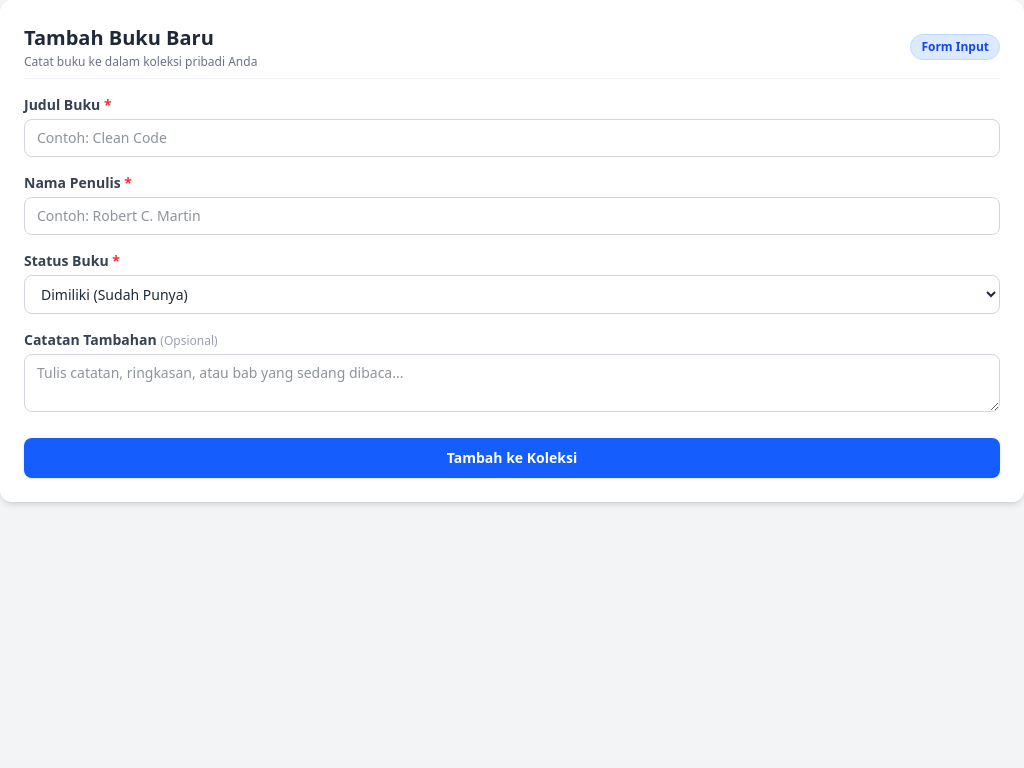
it: Unit Tests: Aplikasi Manajemen Buku Pribadi › 1. Menampilkan pesan error validasi ketika form disubmit dalam keadaan kosong
Click the button "Tambah ke Koleksi" at (512, 458), box [24,438,1000,478]
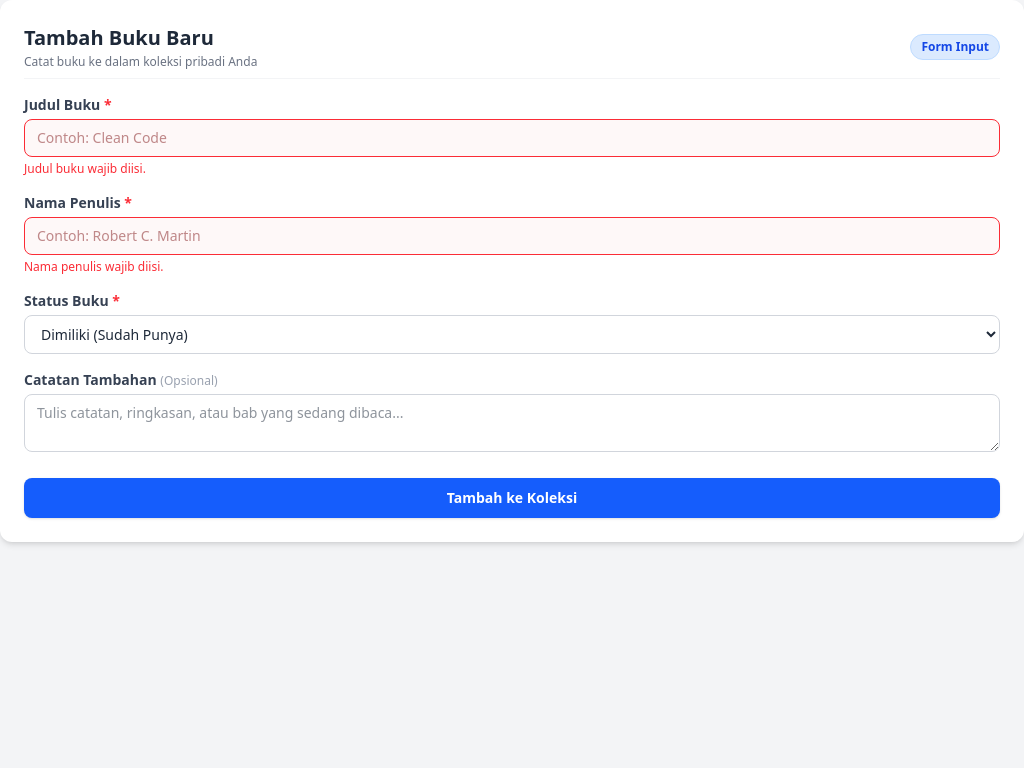
Now the text "Judul buku wajib diisi." is shown, box [24,160,146,177]
Now the text "Nama penulis wajib diisi." is shown, box [24,258,164,275]
